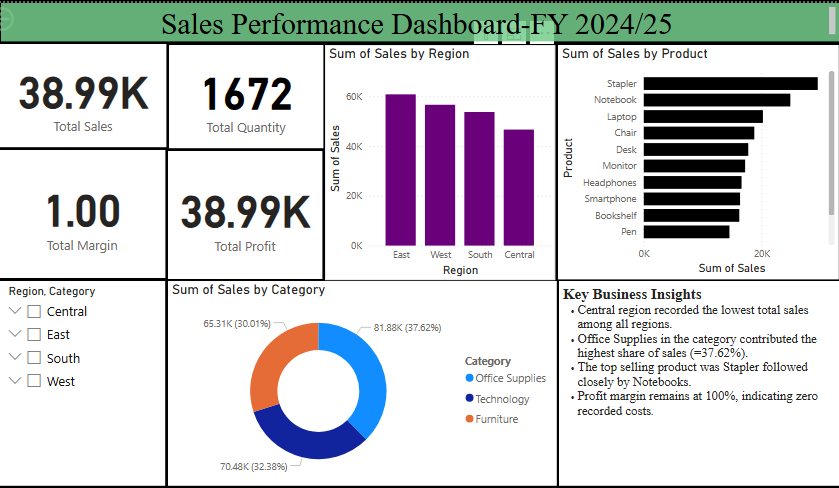

The page's visual inventory and layout, read from the dashboard file:
{"tool":"powerbi","page":{"name":"Page 1","canvas":[1280,720],"ordinal":0},"visuals":[{"type":"card","fields":{"Values":["Sheet1.Total Sales"]},"box":[17.5,51.2,207.5,128.8],"z":0},{"type":"card","fields":{"Values":["Sheet1.Total Quantity"]},"box":[228.8,52.5,192.5,128.8],"z":1000},{"type":"card","fields":{"Values":["Sheet1.Total Profit"]},"box":[227.5,185,192.5,160],"z":2000},{"type":"card","fields":{"Values":["Sheet1.Total Margin"]},"box":[16.2,183.8,207.5,160],"z":3000},{"type":"barChart","fields":{"Category":["Sheet1.Product"],"Y":["Sum(Sheet1.Sales)"]},"box":[715,52.5,351.2,292.5],"z":4000},{"type":"clusteredColumnChart","fields":{"Y":["Sum(Sheet1.Sales)"],"Category":["Sheet1.Region"]},"box":[423.8,52.5,287.5,293.8],"z":5000},{"type":"donutChart","fields":{"Category":["Sheet1.Category"],"Y":["Sum(Sheet1.Sales)"]},"box":[227.5,347.5,486.2,256.2],"z":6000},{"type":"slicer","fields":{"Values":["Sheet1.Region","Sheet1.Category"]},"box":[15,347.5,208.8,256.2],"z":7000},{"type":"actionButton","box":[0,0,100,40],"z":8000},{"type":"textbox","box":[18.8,0,1047.5,47.5],"z":9000},{"type":"textbox","box":[716.2,347.5,351.2,256.2],"z":9001}]}

Visuals, with their boxes on the page's 1280x720 design canvas (x1, y1, x2, y2). These are canvas units, not pixel positions in the 839x488 screenshot, which may show the page scaled, cropped or inside an application window:
card - Sheet1.Total Sales: pyautogui.locateOnScreen(18, 51, 225, 180)
card - Sheet1.Total Quantity: pyautogui.locateOnScreen(229, 52, 421, 181)
card - Sheet1.Total Profit: pyautogui.locateOnScreen(228, 185, 420, 345)
card - Sheet1.Total Margin: pyautogui.locateOnScreen(16, 184, 224, 344)
barChart - Sheet1.Product x Sum(Sheet1.Sales): pyautogui.locateOnScreen(715, 52, 1066, 345)
clusteredColumnChart - Sum(Sheet1.Sales) x Sheet1.Region: pyautogui.locateOnScreen(424, 52, 711, 346)
donutChart - Sheet1.Category x Sum(Sheet1.Sales): pyautogui.locateOnScreen(228, 348, 714, 604)
slicer - Sheet1.Region x Sheet1.Category: pyautogui.locateOnScreen(15, 348, 224, 604)
actionButton: pyautogui.locateOnScreen(0, 0, 100, 40)
textbox: pyautogui.locateOnScreen(19, 0, 1066, 48)
textbox: pyautogui.locateOnScreen(716, 348, 1067, 604)
